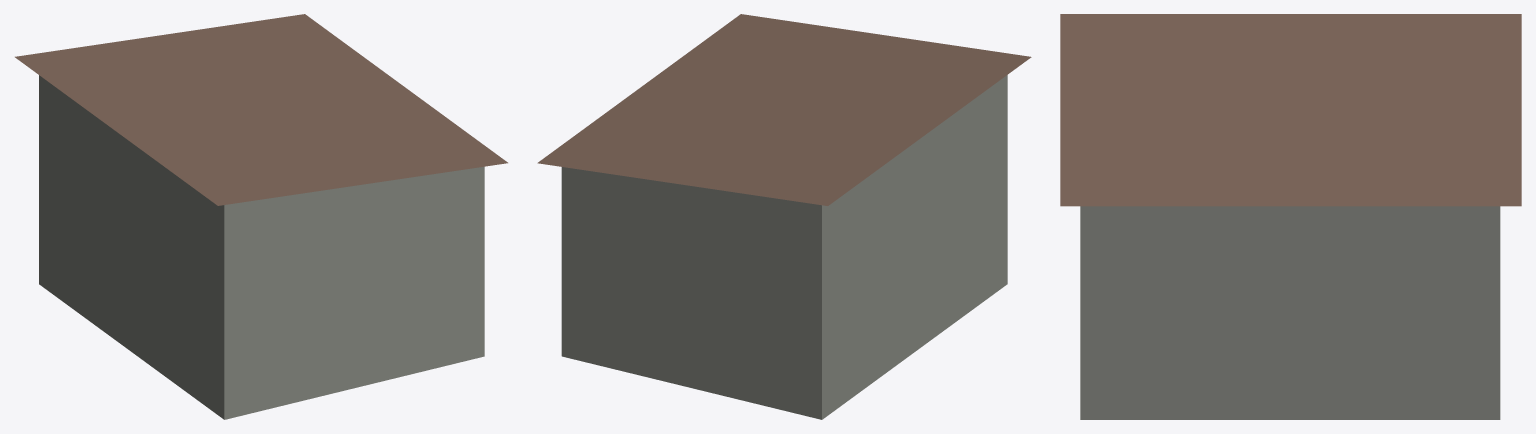
File: fill2_far.fbx
3 renders of one model, left to right at view 1: azimuth 30°, elevation 25°; view 2: azimuth 150°, elevation 25°; view 3: azimuth 270°, elevation 25°, orthographic. The views are drawn at different scales.
Parts seen in each view (by area): view 1: a2014/0/fill2_far; view 2: a2014/0/fill2_far; view 3: a2014/0/fill2_far.
Part boxes in pixels (x1,y1,x2,y2): a2014/0/fill2_far: (15, 14, 507, 419); a2014/0/fill2_far: (537, 14, 1031, 419); a2014/0/fill2_far: (1060, 14, 1521, 419).
Bounding box in the file's own units: 3.8 × 2.8 × 4.61.
